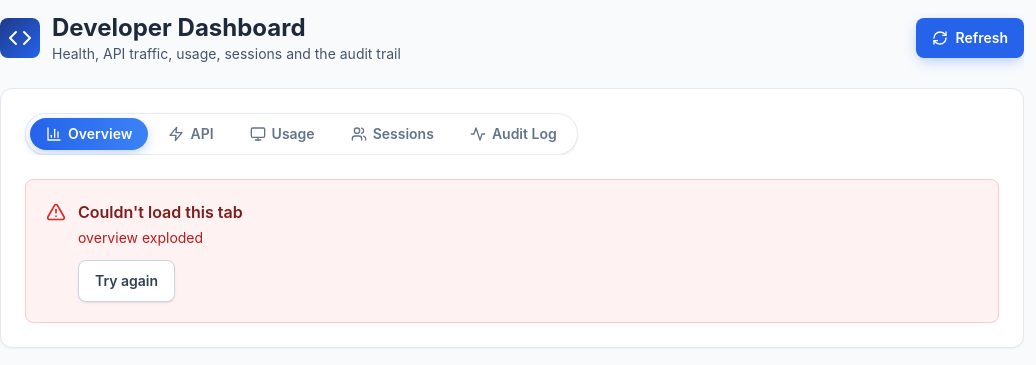
it: DevDashboard › keeps the other tabs usable when one fails
The width and height of the screenshot is (1036, 365).
Expected: the message shows "overview exploded", [78,229,203,246]
Click the tab "Sessions". click: [392, 134]
box: [335,118,450,150]
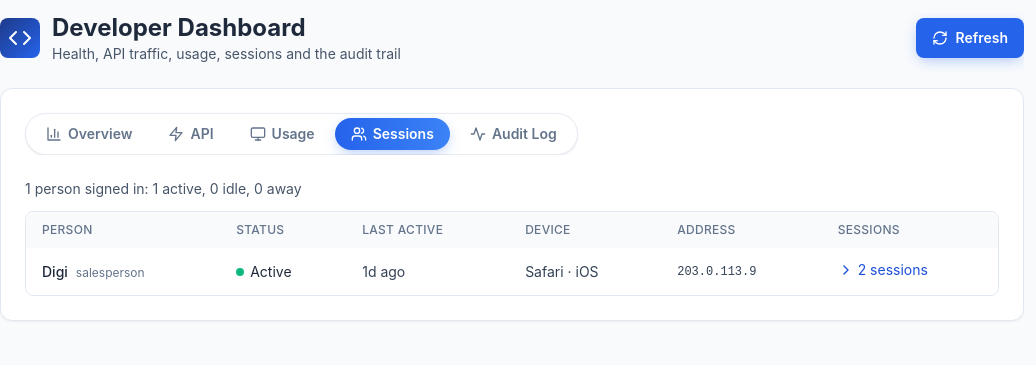
Expected: the row "Digi" is shown, [26,248,998,295]
